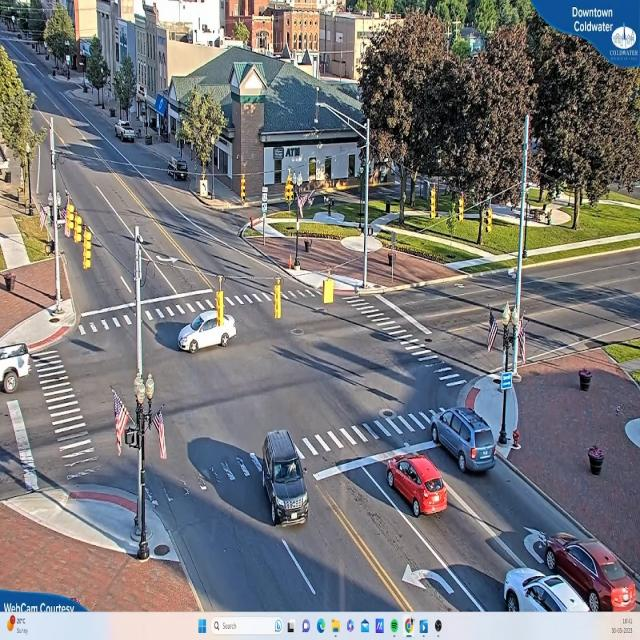car: (430, 408, 497, 474), (263, 432, 310, 526), (167, 296, 238, 354), (386, 455, 450, 519), (499, 563, 574, 613), (0, 342, 28, 396), (116, 123, 136, 143)
